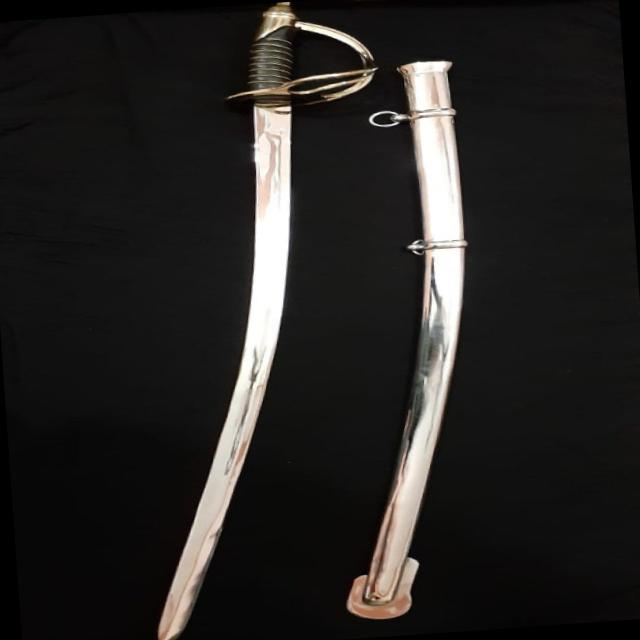Weapon: (99, 0, 428, 640)
